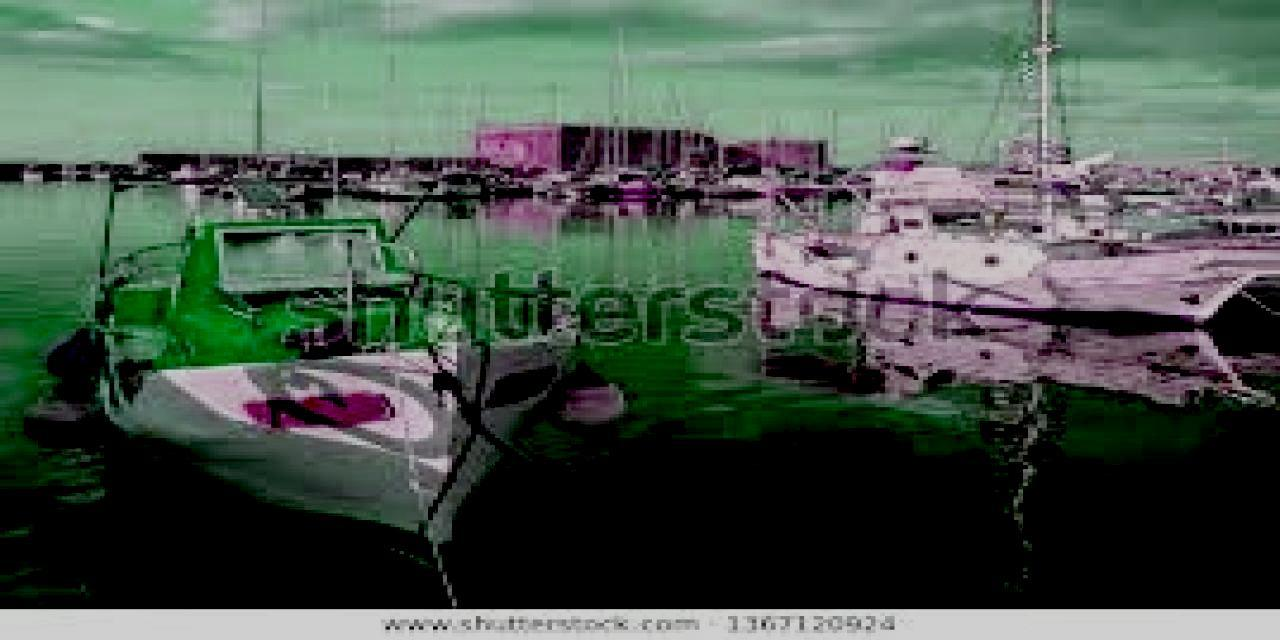Kules: (467, 123, 827, 177)
